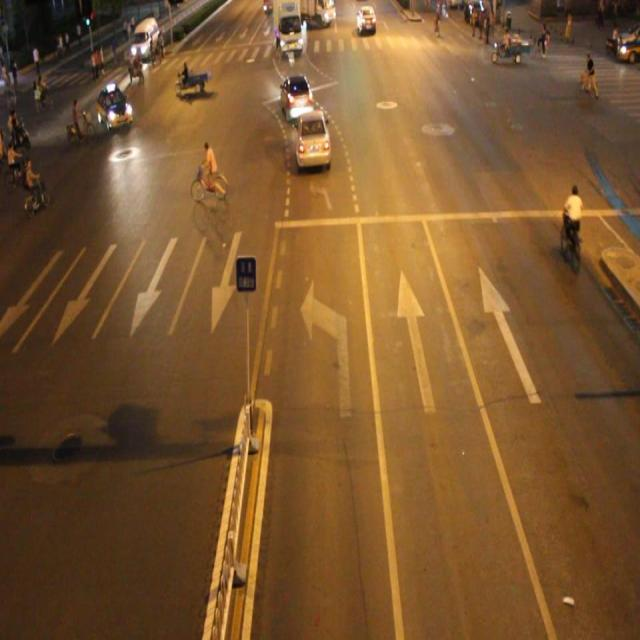car: (293, 108, 332, 171), (278, 70, 315, 121), (96, 84, 133, 133)
